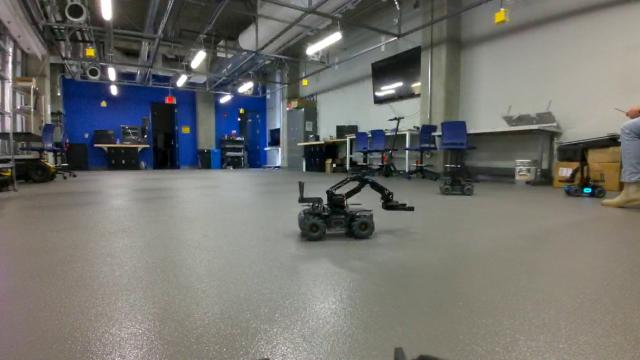robot: (294, 168, 419, 249)
